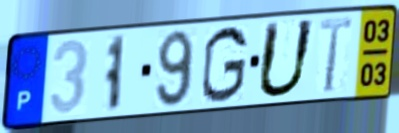1: (104, 32, 128, 115)
3: (47, 36, 94, 118)
9: (154, 28, 198, 110)
G: (199, 23, 251, 105)
T: (317, 15, 354, 96)
U: (253, 17, 318, 101)
